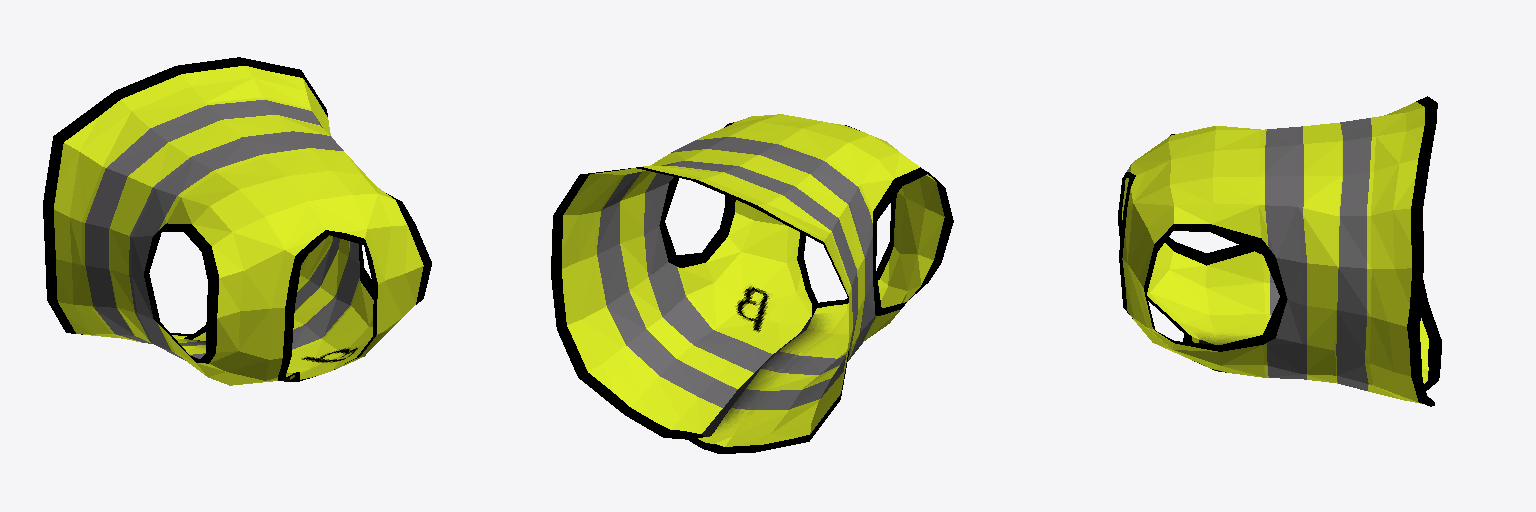
The picture shows the model from 3 angles: view 1: azimuth 30°, elevation 25°; view 2: azimuth 150°, elevation 25°; view 3: azimuth 270°, elevation 25°; orthographic projection.
Visible parts, largest first — view 1: submesh_0; view 2: submesh_0; view 3: submesh_0.
Part boxes in pixels (bbox=[...]): submesh_0: bbox=[43, 57, 431, 385]; submesh_0: bbox=[551, 114, 953, 453]; submesh_0: bbox=[1118, 96, 1441, 406].
Bounding box in the file's own units: 68.41 × 59.16 × 65.35.
Materials: 1 (1 with a texture image).